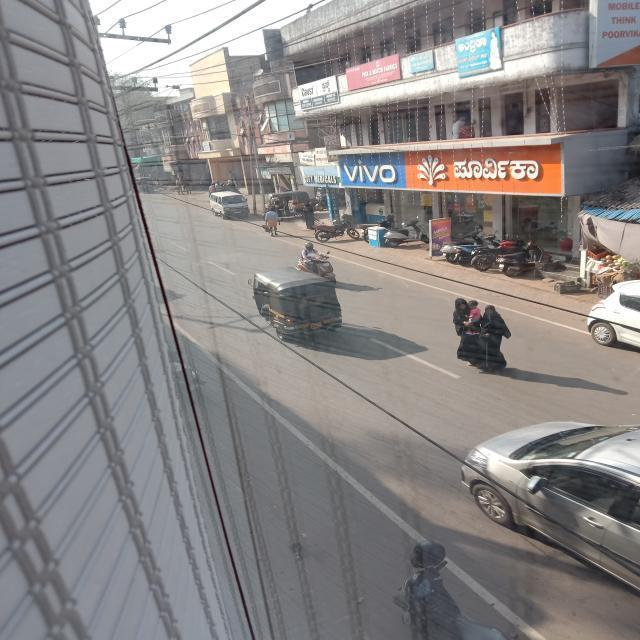auto_back: (242, 264, 353, 352)
car_front: (204, 189, 253, 226)
